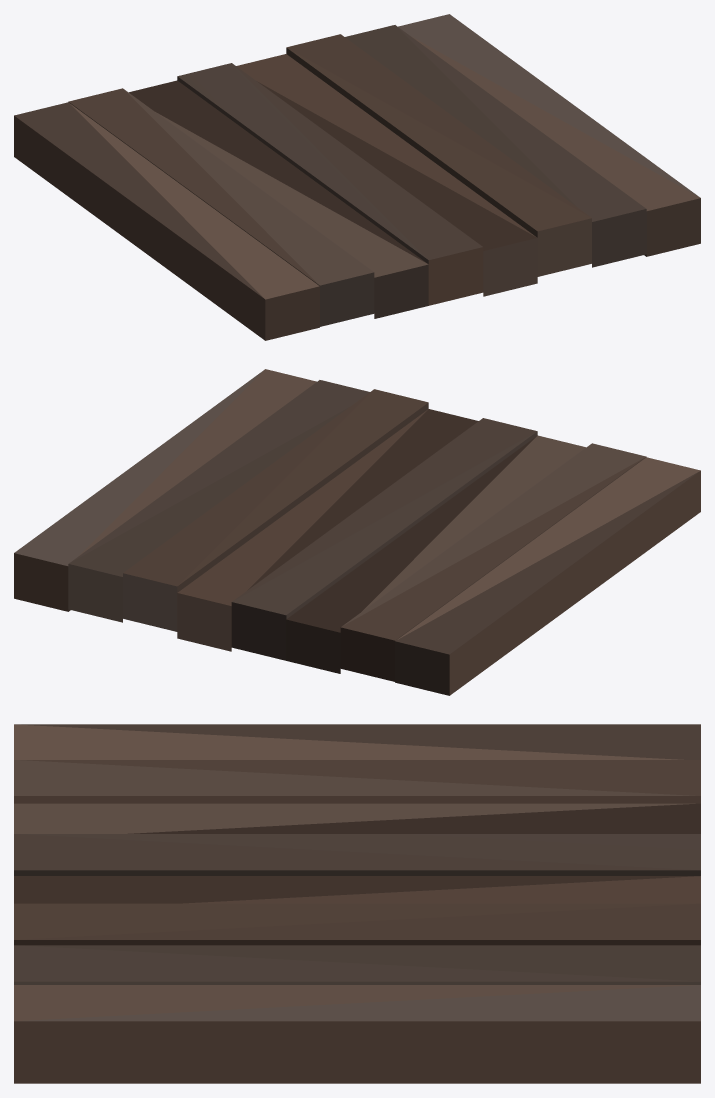
Rendered from Floor_WoodBLOD1.fbx.
3 renders of one model, top to bottom at view 1: azimuth 30°, elevation 25°; view 2: azimuth 150°, elevation 25°; view 3: azimuth 270°, elevation 25°, orthographic. The views are drawn at different scales.
Visible parts, largest first — view 1: Floor_WoodBLOD1; view 2: Floor_WoodBLOD1; view 3: Floor_WoodBLOD1.
Boxes of the visible parts, x1,y1,x2,y2 form: Floor_WoodBLOD1: [14, 14, 700, 340]; Floor_WoodBLOD1: [14, 369, 700, 695]; Floor_WoodBLOD1: [14, 724, 700, 1083].
Bounding box in the file's own units: 250 × 28.56 × 250.
